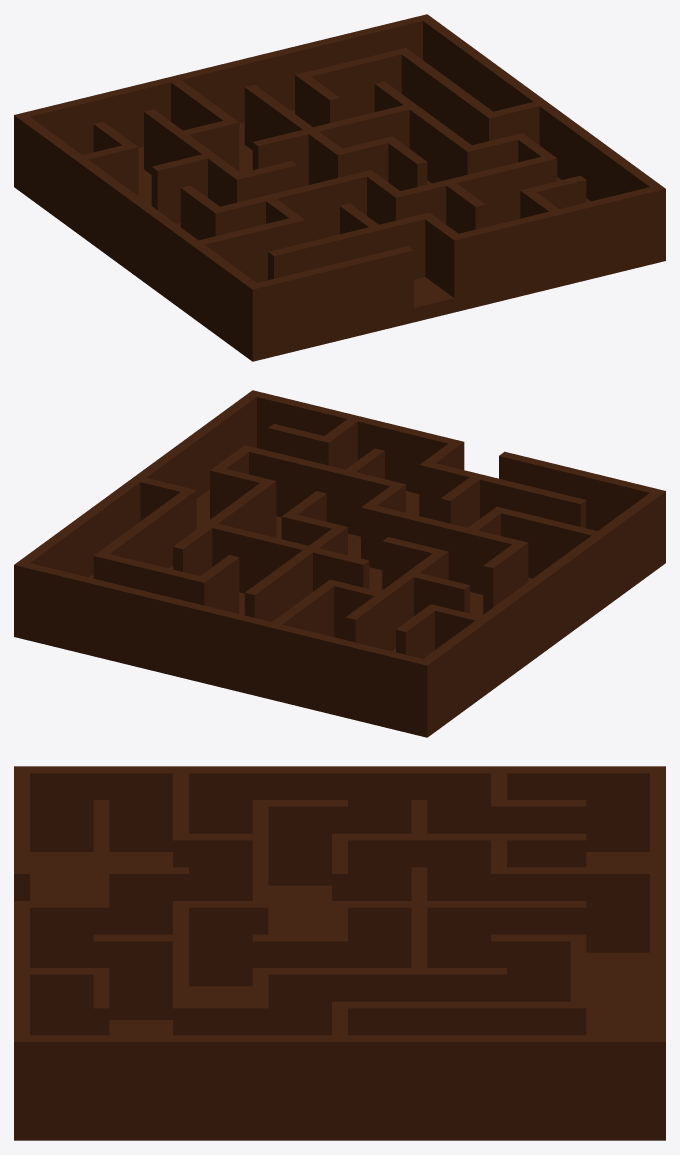
File: LabyrinthandBallblend.obj
The picture shows the model from 3 angles, top to bottom: view 1: azimuth 30°, elevation 25°; view 2: azimuth 150°, elevation 25°; view 3: azimuth 270°, elevation 25°; orthographic projection. The views are drawn at different scales.
Visible parts, largest first — view 1: Labyrinth_Maze.001; view 2: Labyrinth_Maze.001; view 3: Labyrinth_Maze.001.
Part boxes in pixels (x1,y1,x2,y2): Labyrinth_Maze.001: (14, 14, 665, 361); Labyrinth_Maze.001: (14, 390, 665, 737); Labyrinth_Maze.001: (14, 766, 665, 1140).
Size of the model in its own units: 30 by 5 by 30.
